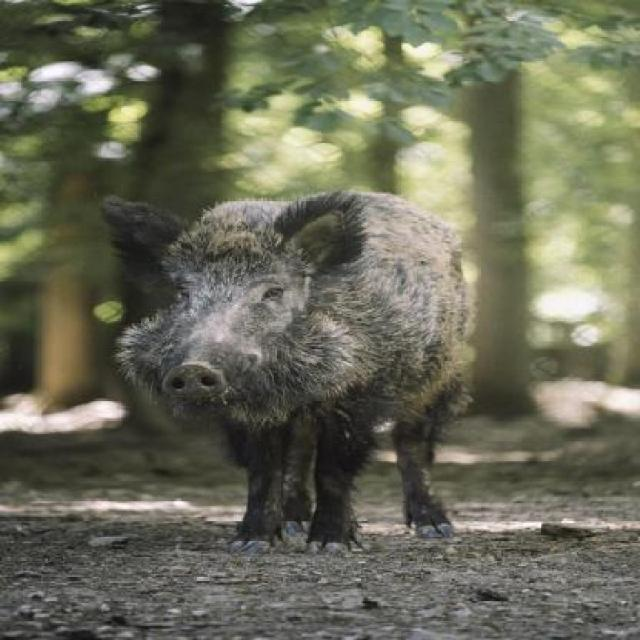wildboar: (86, 185, 489, 564)
